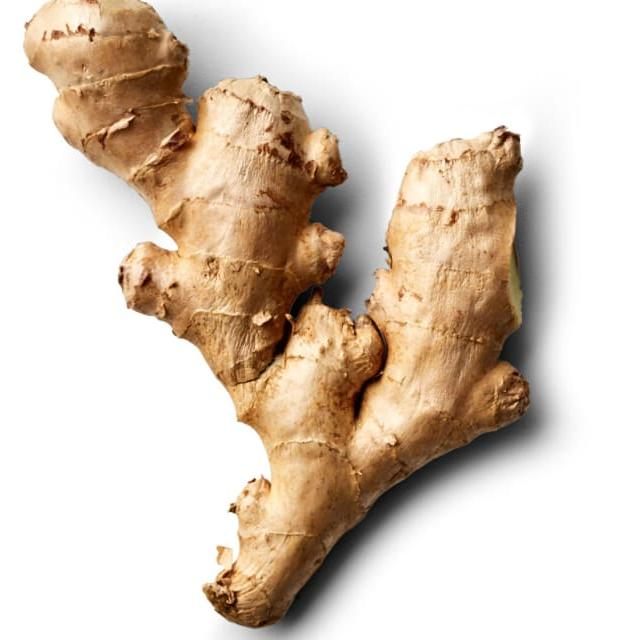ginger: (22, 0, 541, 629)
